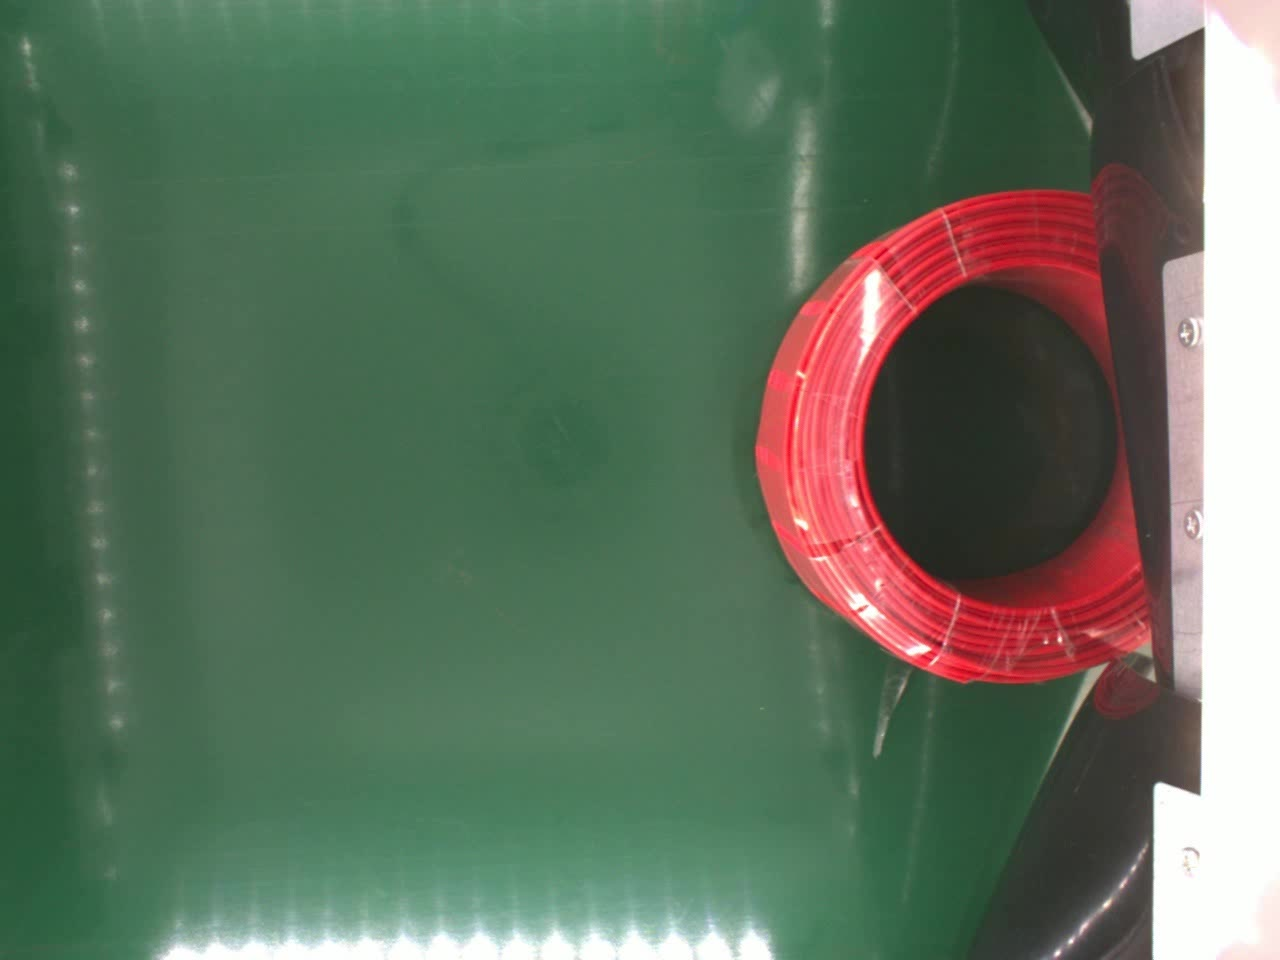red: (751, 185, 1153, 688)
